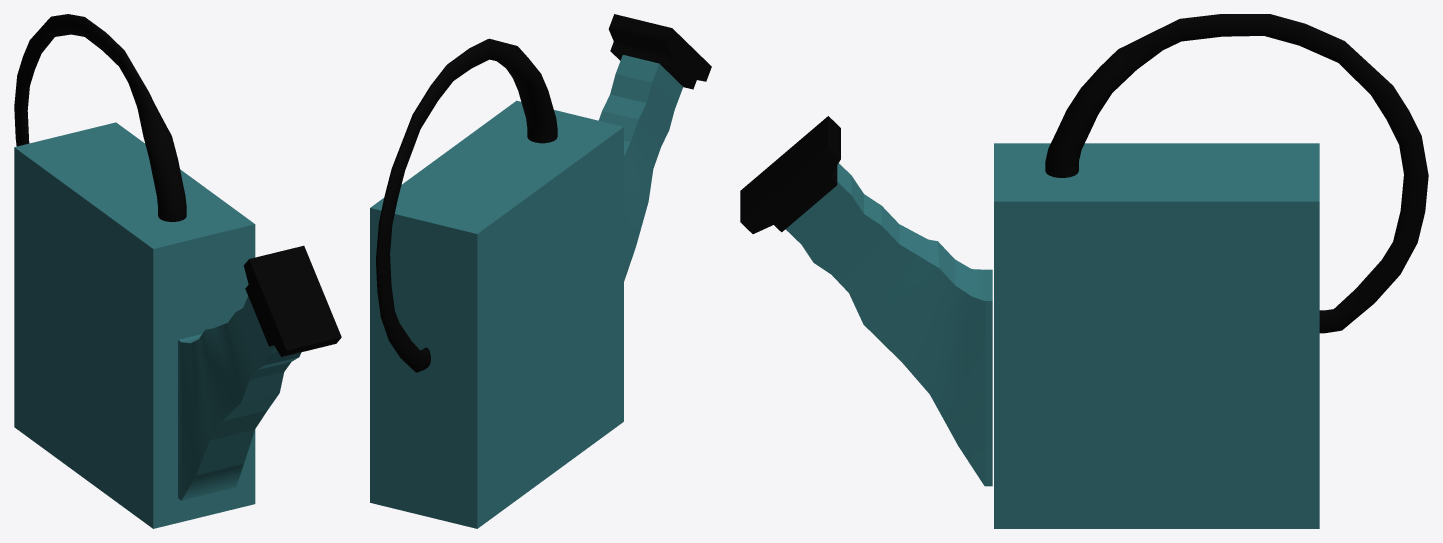
Rendered from Water Can.fbx.
3 views of the same model, side by side, from view 1: azimuth 30°, elevation 25°; view 2: azimuth 150°, elevation 25°; view 3: azimuth 270°, elevation 25° (orthographic). The views are drawn at different scales.
Visible parts, largest first — view 1: Box001, Box002, Cylinder001, Box003; view 2: Box001, Cylinder001, Box002, Box003; view 3: Box001, Box002, Cylinder001, Box003.
Part boxes in pixels (x1=…): Box001: x1=14, y1=122, x2=255, y2=528; Box002: x1=178, y1=296, x2=301, y2=500; Cylinder001: x1=14, y1=14, x2=186, y2=221; Box003: x1=243, y1=245, x2=341, y2=356; Box001: x1=370, y1=100, x2=623, y2=528; Cylinder001: x1=376, y1=38, x2=557, y2=372; Box002: x1=598, y1=55, x2=682, y2=281; Box003: x1=608, y1=14, x2=711, y2=89; Box001: x1=994, y1=143, x2=1319, y2=528; Box002: x1=785, y1=163, x2=992, y2=486; Cylinder001: x1=1045, y1=14, x2=1428, y2=333; Box003: x1=740, y1=116, x2=840, y2=233.
Bounding box in the file's own units: 53.3 × 207 × 267.
